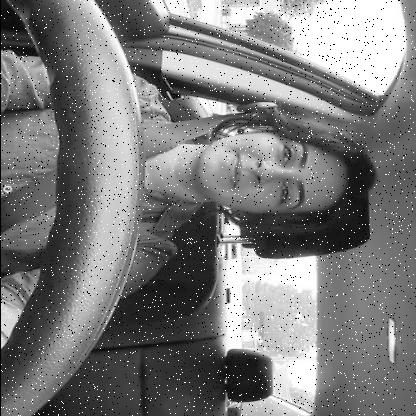seatbelt: (0, 101, 385, 239)
